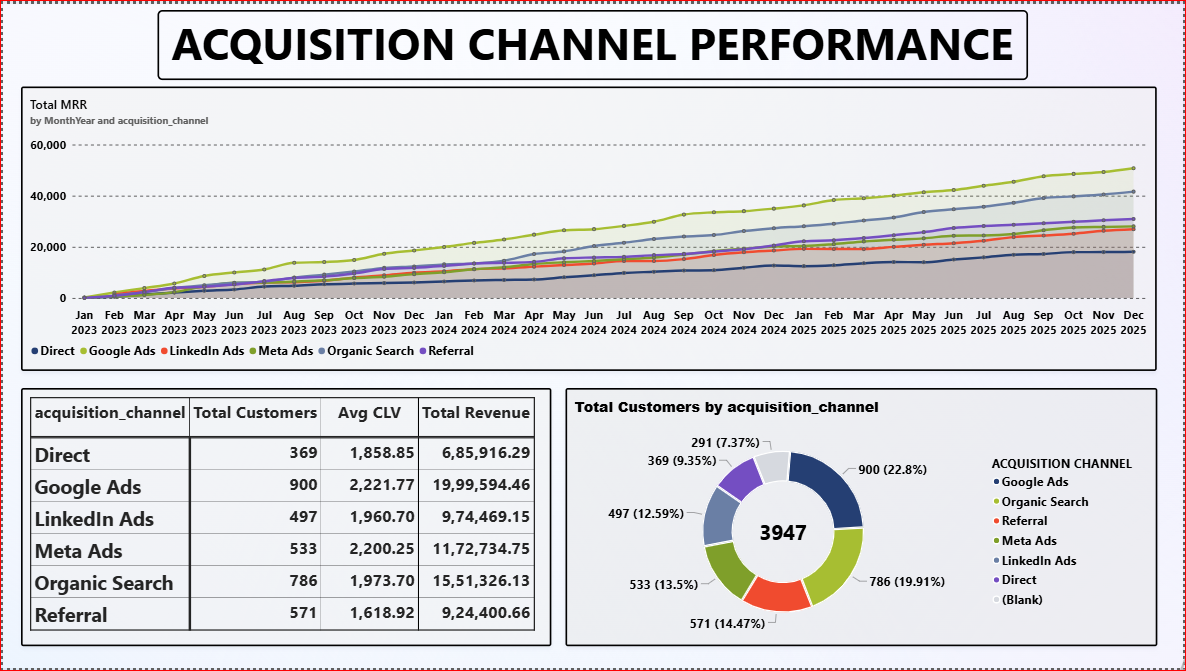

The page's visual inventory and layout, read from the dashboard file:
{"tool":"powerbi","page":{"name":"Acquisition Channel Performance","canvas":[1920,1080],"ordinal":4},"visuals":[{"type":"lineChart","fields":{"Category":["DimDate.MonthYear"],"Series":["dim_customer.acquisition_channel"],"Y":["fact_monthly_subscription.Total MRR"]},"box":[30,135,1847.5,462.5],"z":0},{"type":"pivotTable","fields":{"Rows":["fact_customer_clv.acquisition_channel"],"Values":["fact_customer_clv.Total Customers","fact_customer_clv.Avg CLV","fact_customer_clv.Total Revenue"]},"box":[30,625,862.5,420],"z":1},{"type":"donutChart","fields":{"Category":["fact_customer_clv.acquisition_channel"],"Y":["fact_customer_clv.Total Customers"]},"box":[915,625,962.5,420],"z":2}]}

Visuals, with their boxes in screenshot pixels (x1, y1, x2, y2), scaled from the page's 1920x1080 canvas onto the 1186x671 screenshot:
lineChart - DimDate.MonthYear x dim_customer.acquisition_channel: detection(19, 84, 1160, 371)
pivotTable - fact_customer_clv.acquisition_channel x fact_customer_clv.Total Customers: detection(19, 388, 551, 649)
donutChart - fact_customer_clv.acquisition_channel x fact_customer_clv.Total Customers: detection(565, 388, 1160, 649)
